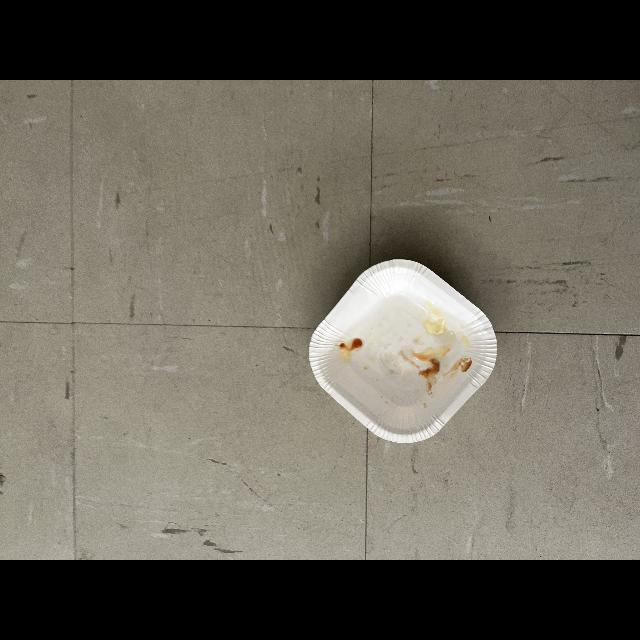cardboard_bowl: (304, 251, 504, 449)
